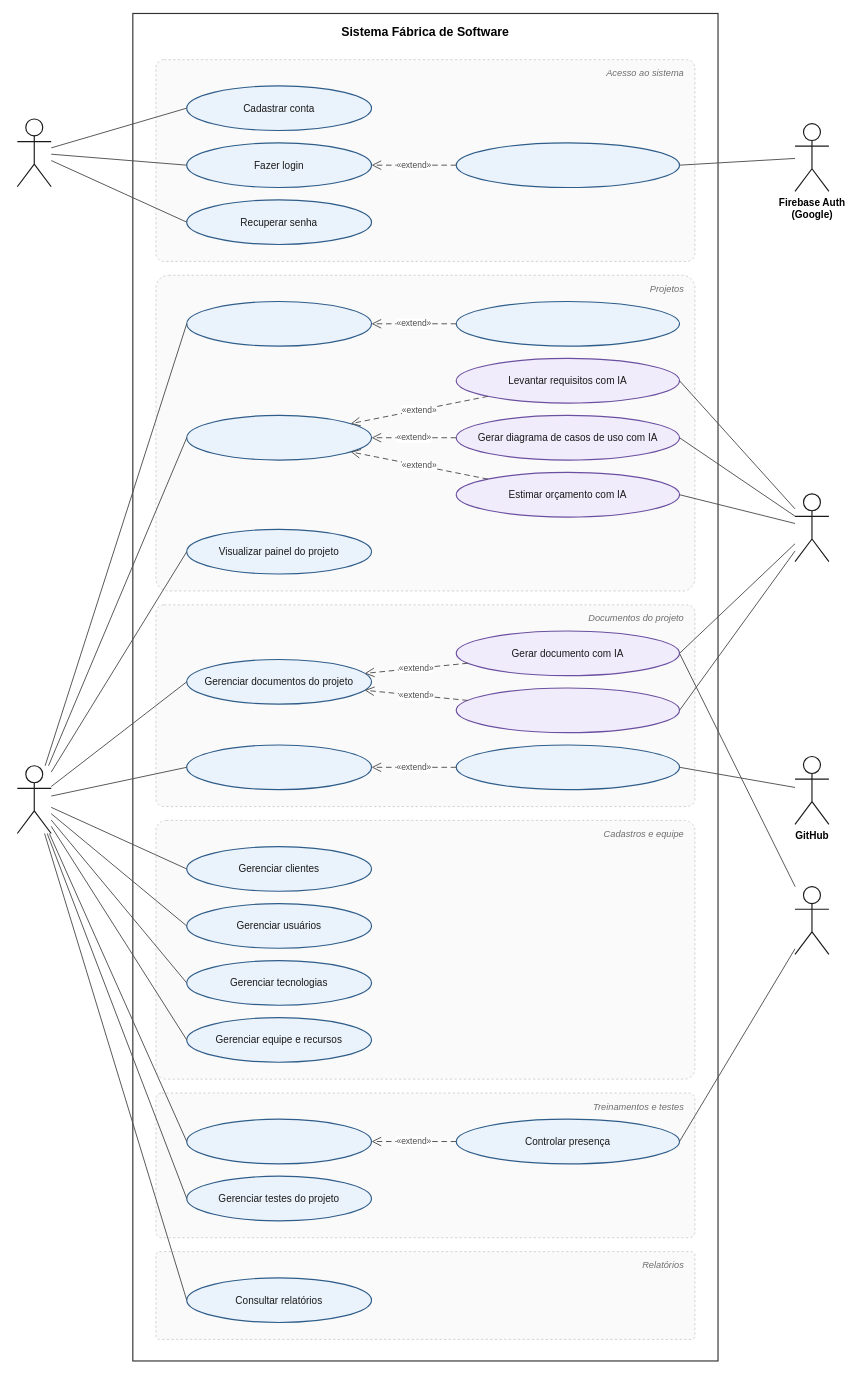
Image size: 859x1375. Some labels were removed from this diagram. The centre of each missing label's shape, as x and y in pixels:
Criar projeto: (x=279, y=437)
Entrar com conta Google: (x=567, y=165)
Filtrar projetos: (x=567, y=323)
Gerar código-fonte com IA: (x=567, y=710)
Gerenciar projetos: (x=279, y=323)
Gerenciar treinamentos: (x=279, y=1141)
Google Drive, Docs e Sheets: (x=811, y=920)
IA Claude (Anthropic): (x=811, y=527)
Publicar código no GitHub: (x=567, y=767)
Usuário: (x=33, y=799)
Visitante: (x=33, y=152)
Visualizar e editar documento: (x=279, y=767)
